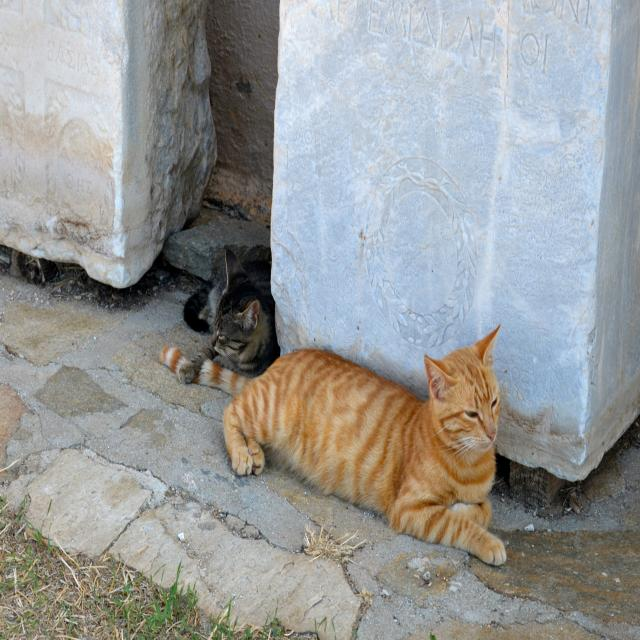cat: (195, 326, 506, 565), (178, 249, 280, 383), (159, 347, 186, 377)
